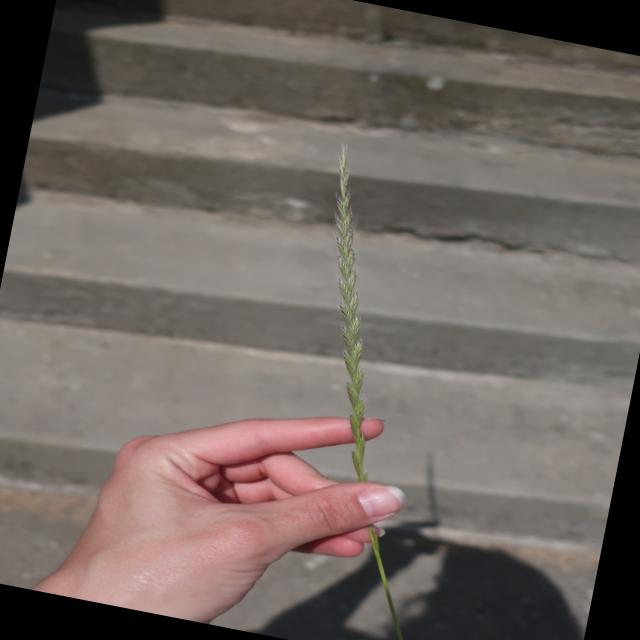Lolium: (272, 140, 440, 484)
